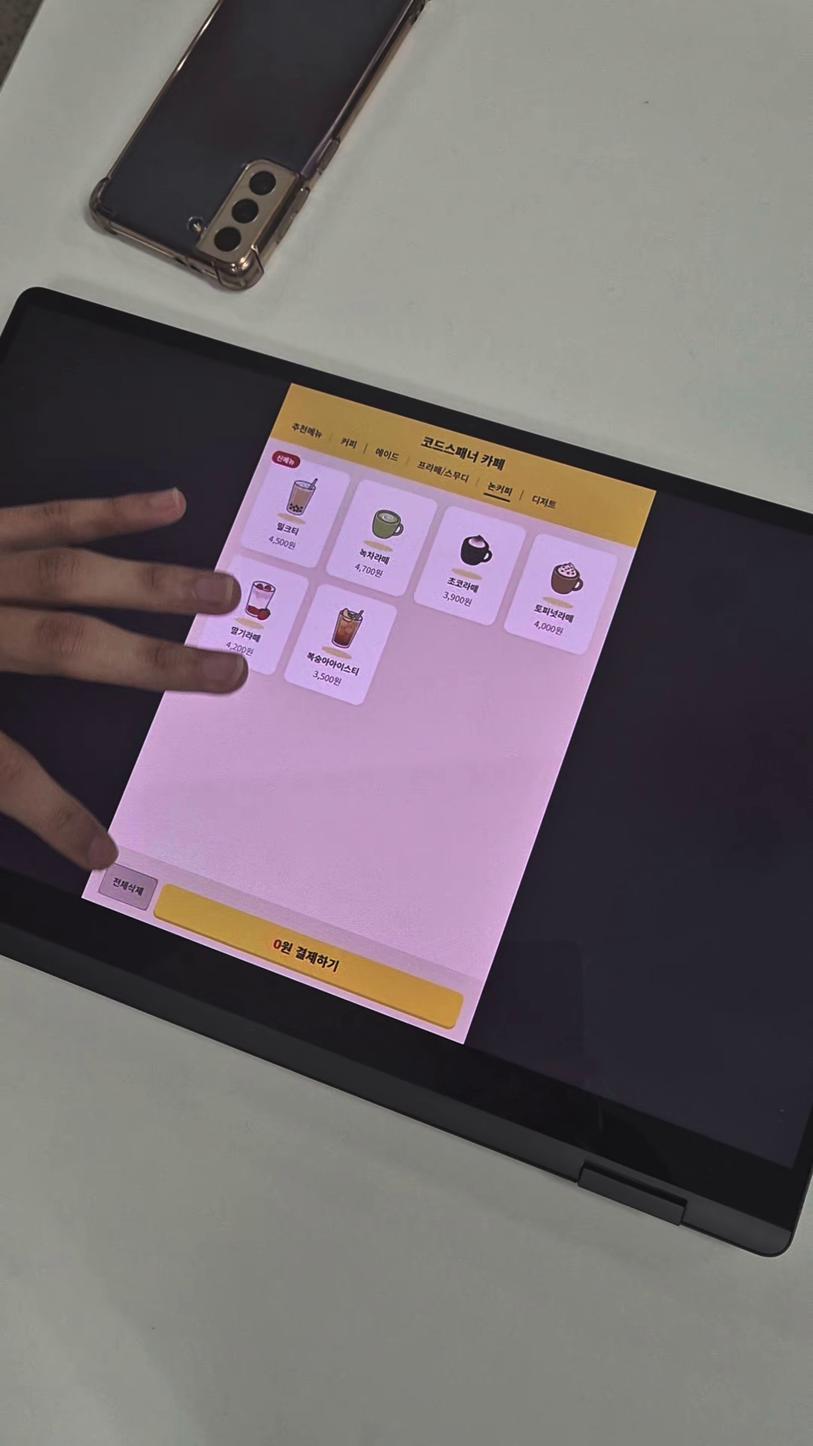action_button: (150, 880, 465, 1032), (93, 860, 163, 913)
category_tab: (412, 456, 474, 488), (285, 413, 330, 445), (480, 477, 520, 500), (366, 443, 405, 466), (526, 489, 561, 514), (335, 433, 360, 453)
menu_back: (276, 581, 404, 715), (318, 472, 441, 606), (499, 528, 622, 661), (409, 502, 532, 633), (191, 551, 312, 682), (237, 443, 356, 574)
menu_name: (300, 646, 365, 680), (530, 601, 578, 627), (224, 621, 266, 647), (444, 573, 483, 595), (358, 544, 394, 567), (269, 516, 303, 538)
menu_price: (308, 667, 347, 691), (528, 615, 568, 638), (262, 532, 300, 554), (439, 589, 476, 611), (222, 637, 258, 659), (351, 560, 386, 581)
